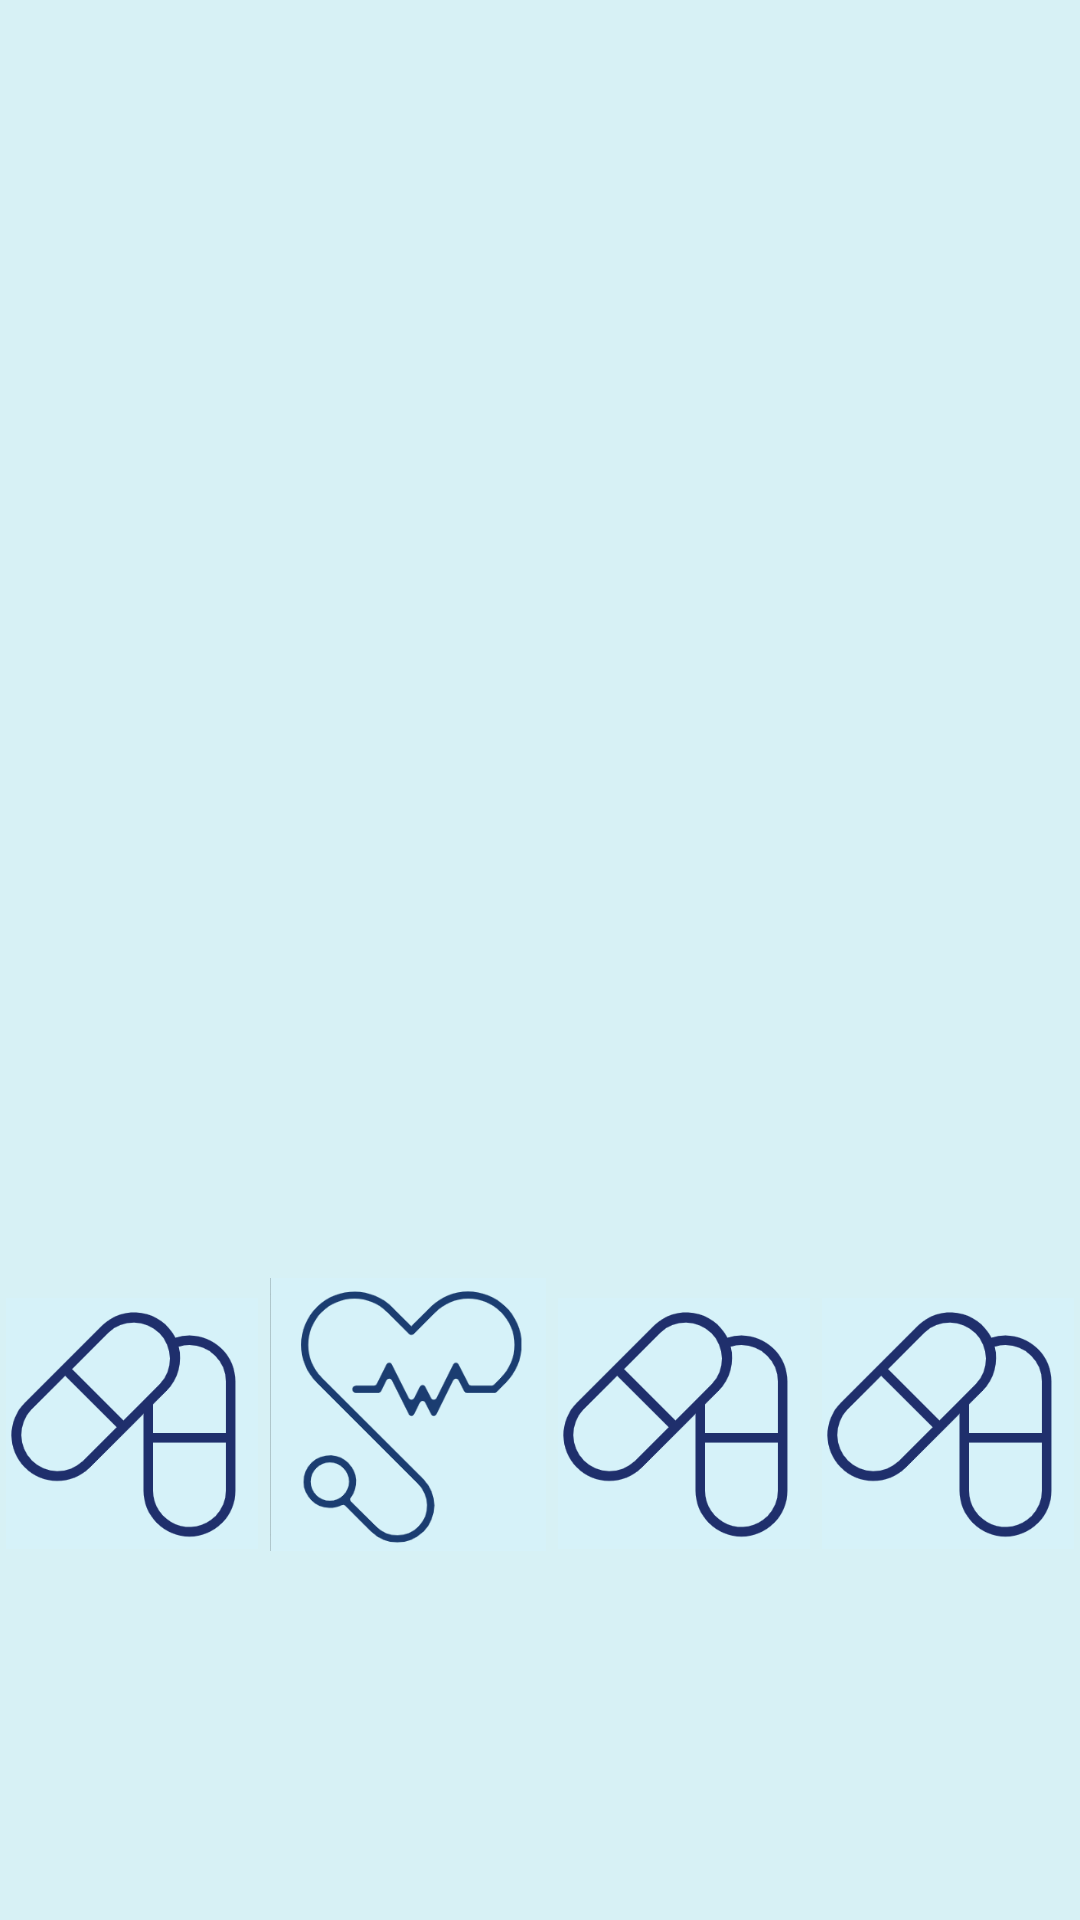

Named icons in this screenshot (1080w x 1920h) and their centers, (x=x, y=y):
doctor: (x=396, y=1414)
pharmacy: (x=123, y=1424), (x=675, y=1424), (x=939, y=1424)
